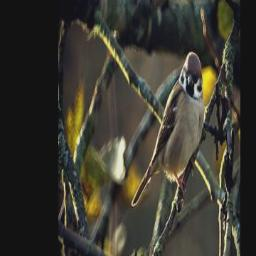Sparrow: (131, 48, 204, 210)
